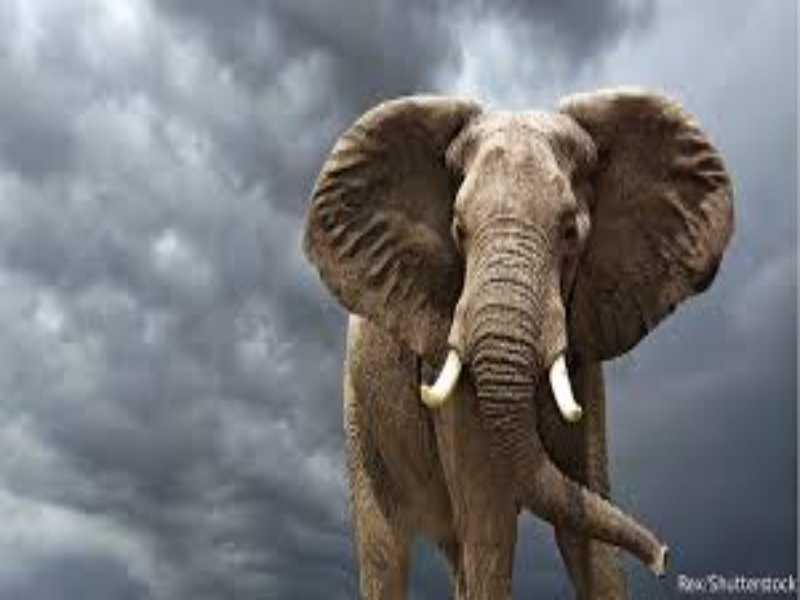elephant: (283, 46, 745, 596)
